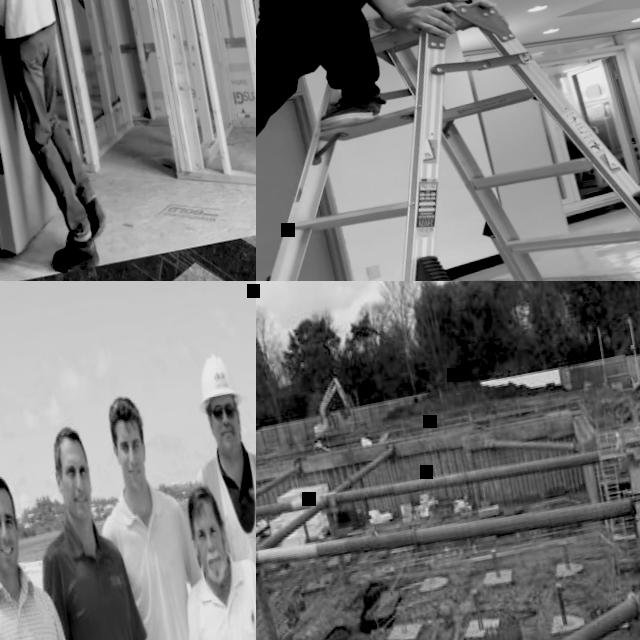Hardhat: (190, 354, 246, 411), (615, 432, 620, 438)
NO-Hardhat: (102, 392, 145, 430), (49, 422, 87, 460), (185, 485, 221, 524), (0, 467, 13, 504)
NO-Mask: (65, 494, 98, 530), (216, 426, 247, 461), (0, 539, 24, 573), (124, 462, 149, 492)
NO-Safety Vest: (108, 494, 209, 640), (48, 526, 152, 640), (184, 558, 256, 640), (0, 579, 83, 640)
Person: (256, 0, 640, 212), (76, 384, 254, 640), (11, 417, 190, 640), (0, 0, 118, 279), (171, 343, 256, 640), (0, 459, 118, 640), (155, 473, 256, 640)
Safety Vest: (195, 444, 256, 640), (612, 430, 631, 478), (617, 438, 626, 453)
vehicle: (306, 374, 358, 442)
